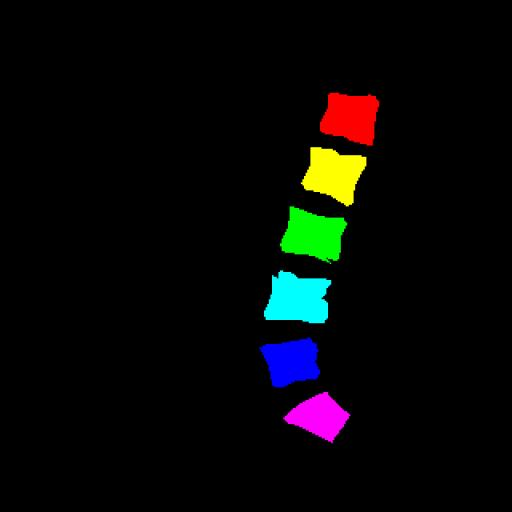L1: (320, 93, 376, 146)
L2: (301, 147, 366, 206)
L3: (280, 206, 347, 262)
L4: (263, 271, 330, 324)
L5: (260, 338, 319, 388)
S1: (284, 392, 350, 442)
